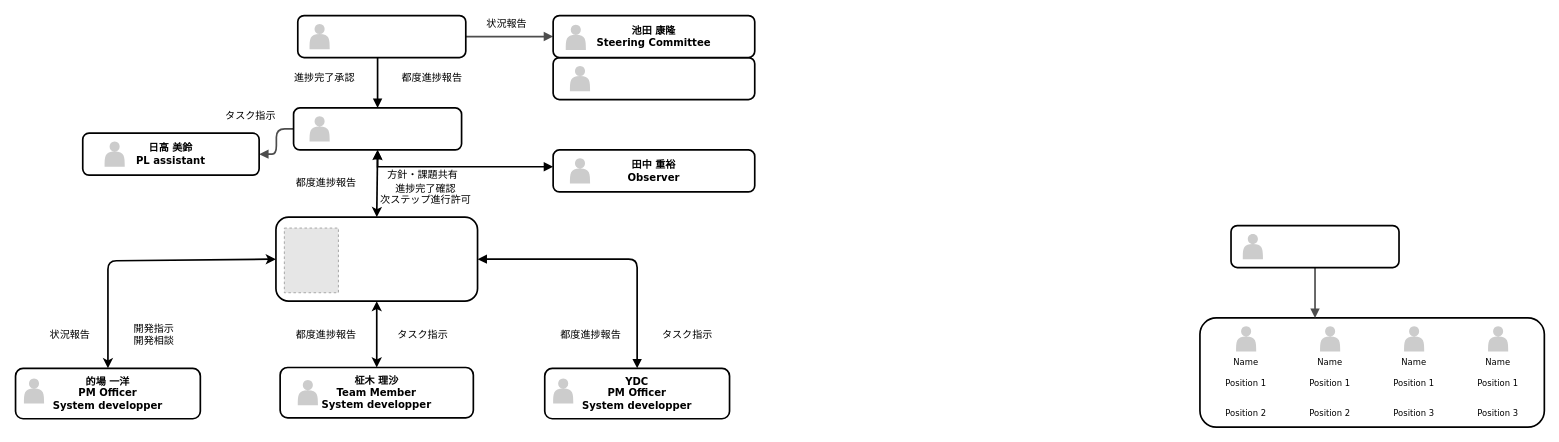
Some shapes in this 1559 by 442 pixel diagram are drawn without their labels. Grey dashed boxes stand in for pictures. The shapes that lost their labels are listed below. From the top down, each one's box as (x1, y1, x2, y2) in pixels, then its label:
(297, 14, 466, 58): 清原 聡 Project Manager
(552, 56, 755, 100): 内田 幸喜 Steering Committee
(292, 107, 462, 150): 田辺 奨悟 Project Leader
(275, 216, 478, 302): 坂口 裕宜 Team Leader System developper
(1230, 224, 1399, 268): Name Position
